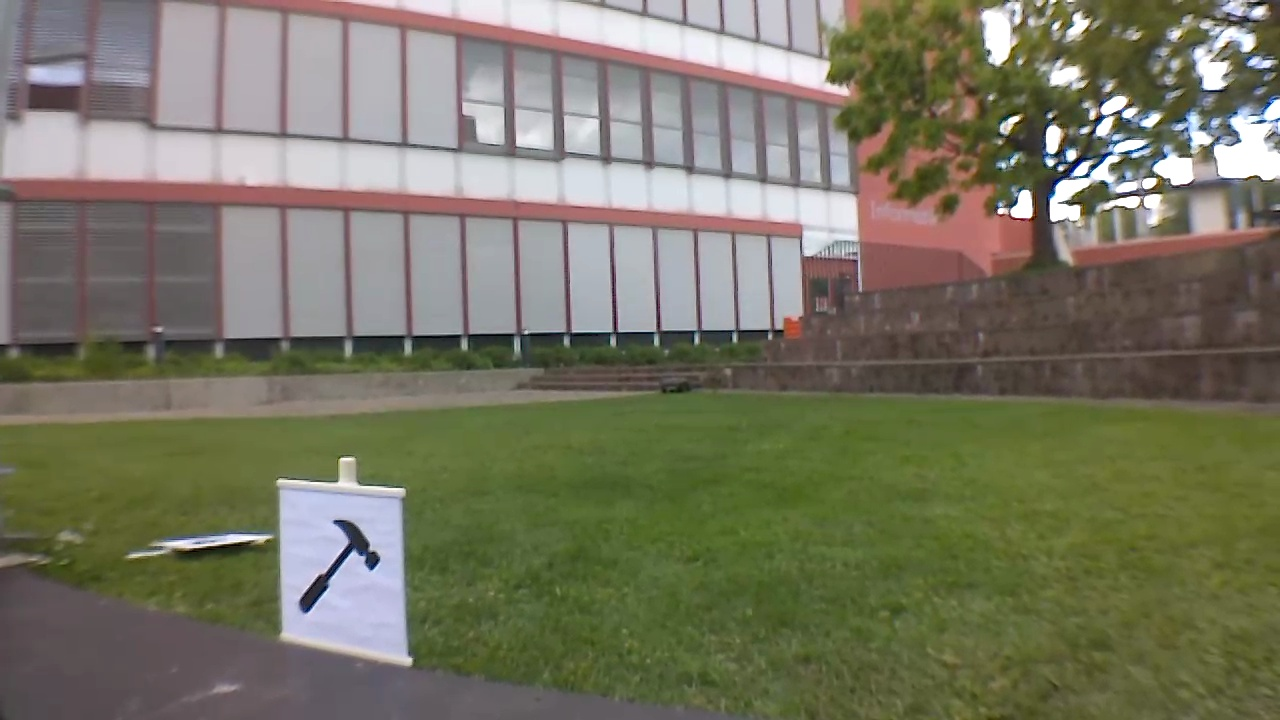hammer: (289, 510, 388, 621)
